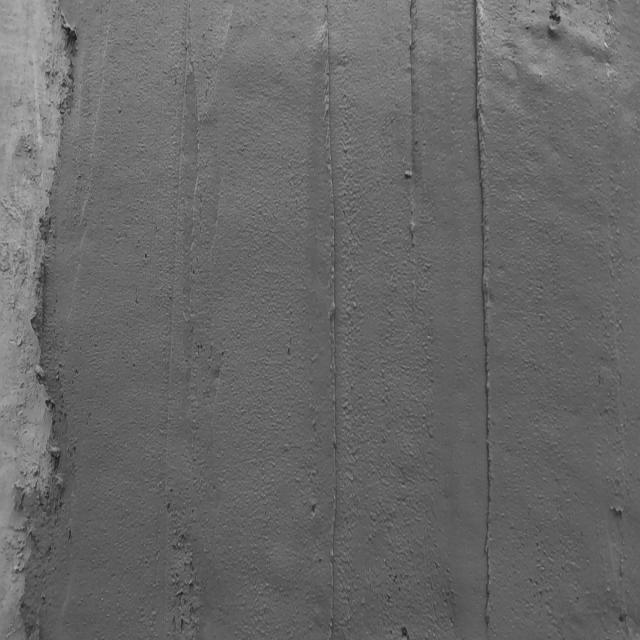trowels marks: (156, 4, 194, 578), (312, 2, 342, 640), (468, 2, 498, 640), (399, 2, 423, 328)
